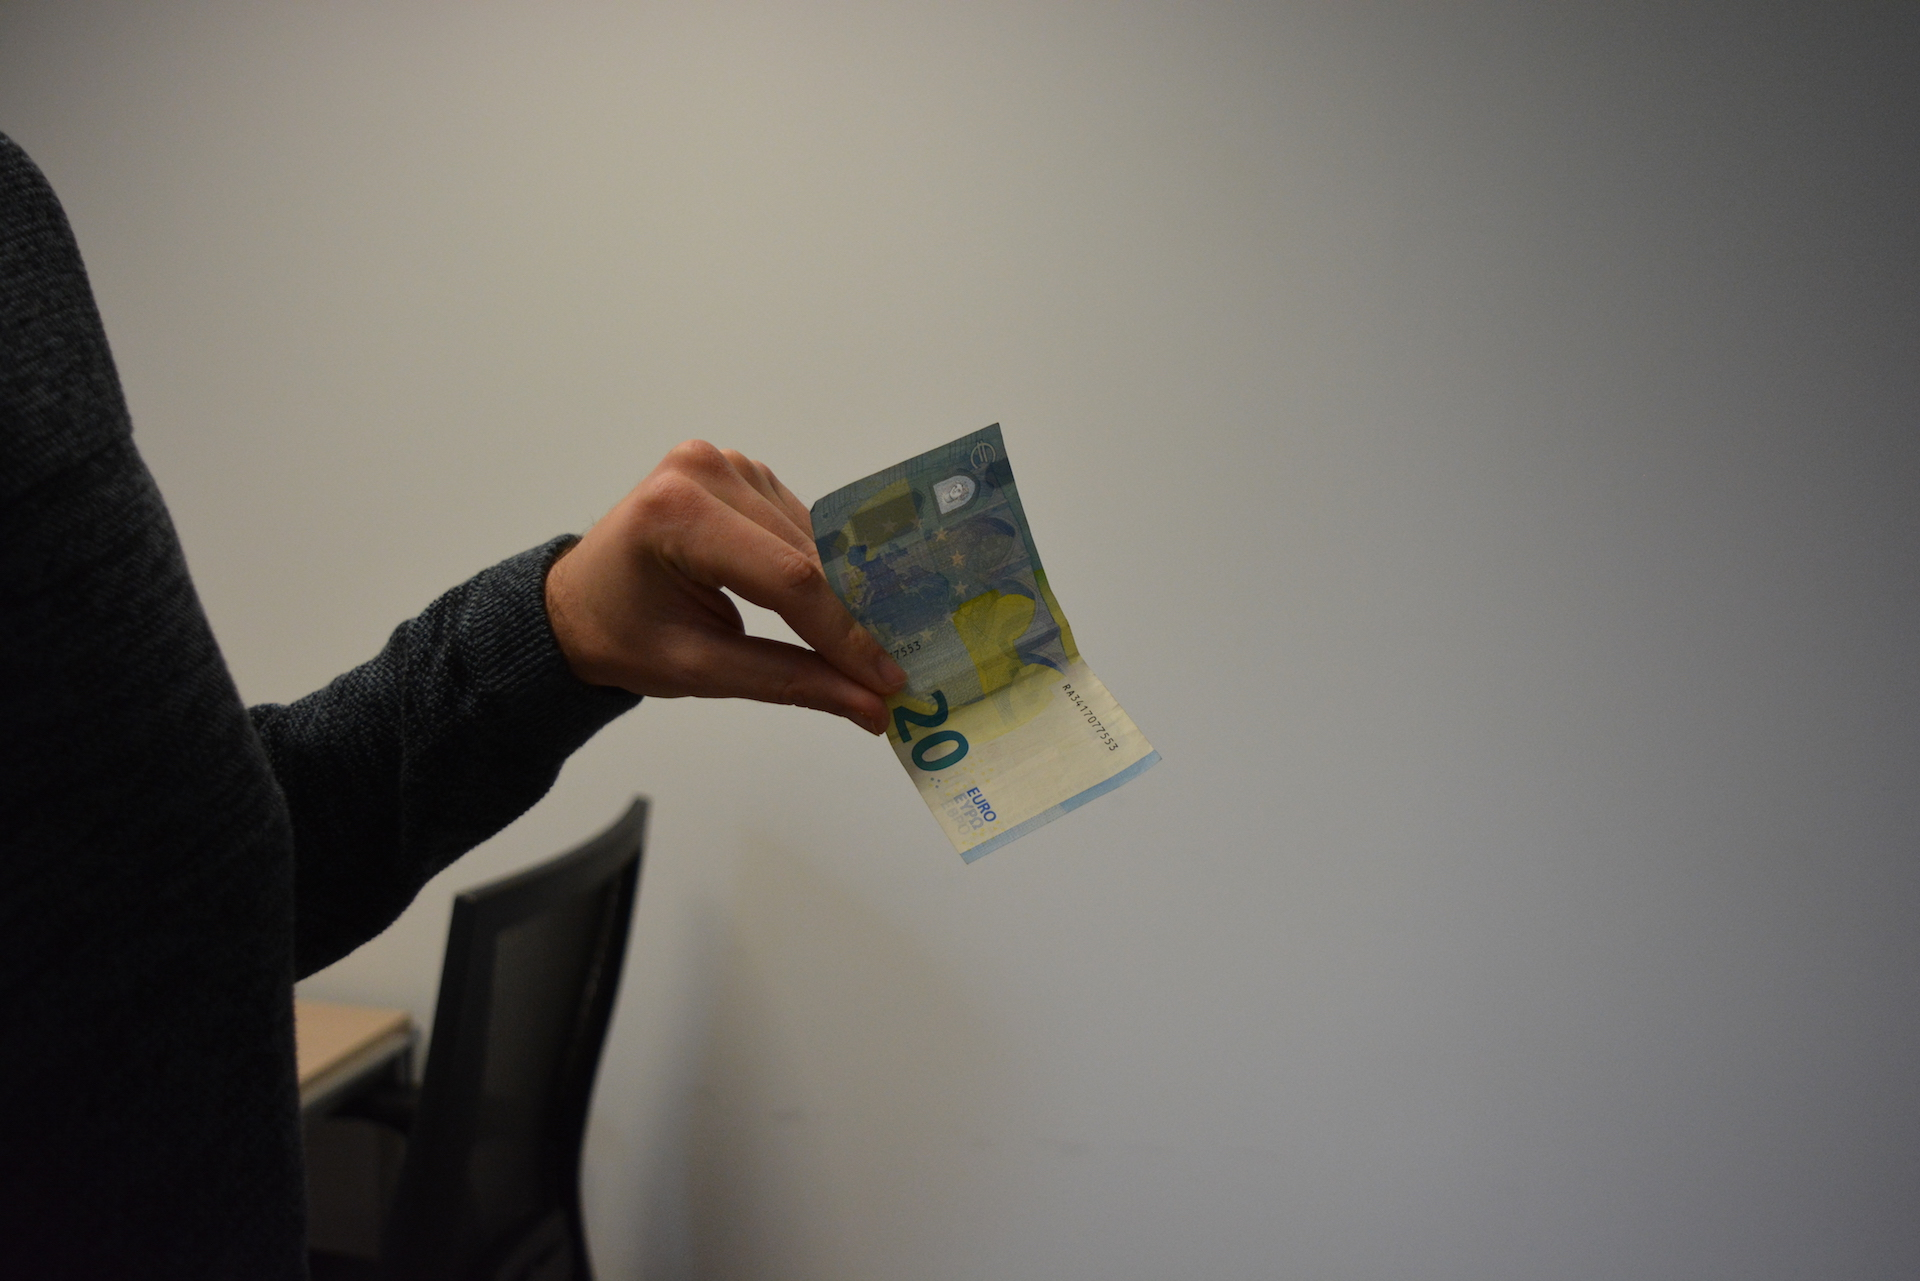billete: (809, 419, 1167, 868)
